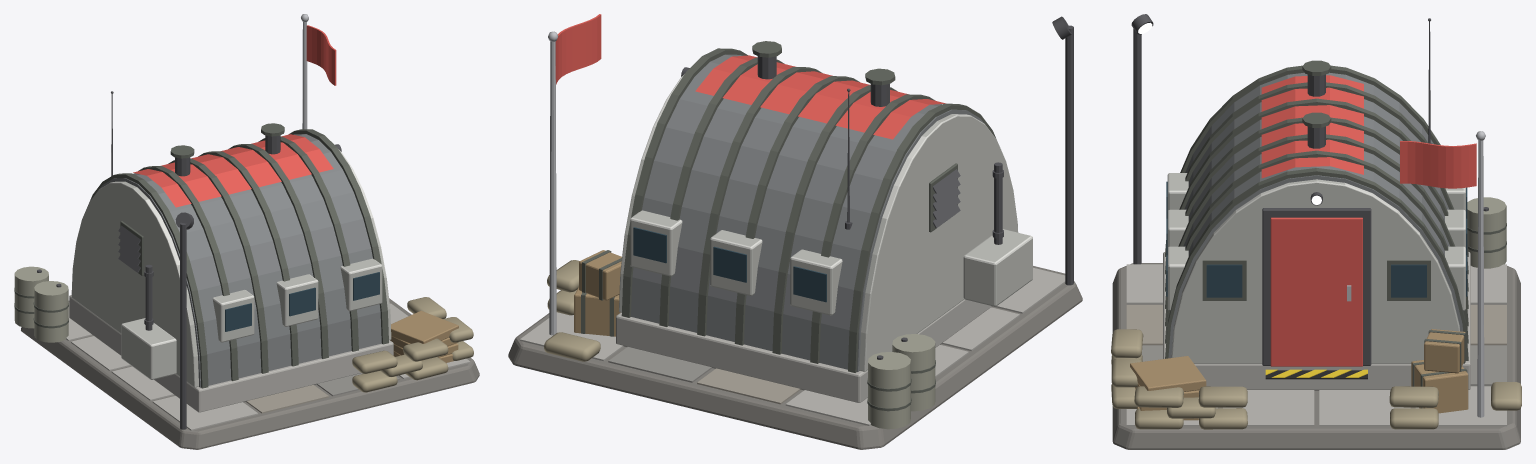
File: barracks_red.glb
3 renders of one model, left to right at view 1: azimuth 30°, elevation 25°; view 2: azimuth 150°, elevation 25°; view 3: azimuth 270°, elevation 25°, orthographic. The views are drawn at different scales.
Parts seen in each view (by area): view 1: Body; view 2: Body; view 3: Body.
Part boxes in pixels (left/top/right/bottom): Body: left=14, top=14, right=479, bottom=449; Body: left=508, top=14, right=1082, bottom=449; Body: left=1111, top=14, right=1521, bottom=449.
Size of the model in its own units: 4.14 by 3.28 by 4.01.
Materials: 1 (1 with a texture image).
